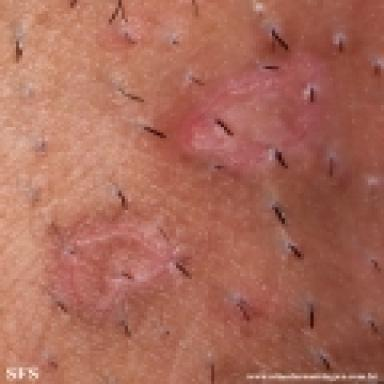Porokeratosis: (181, 54, 332, 169), (50, 211, 185, 320)
